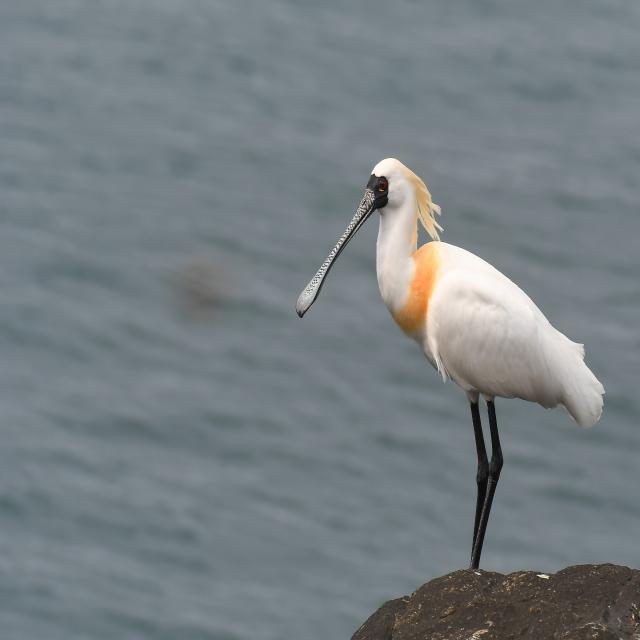Black-faced spoonbill: (297, 159, 604, 568)
